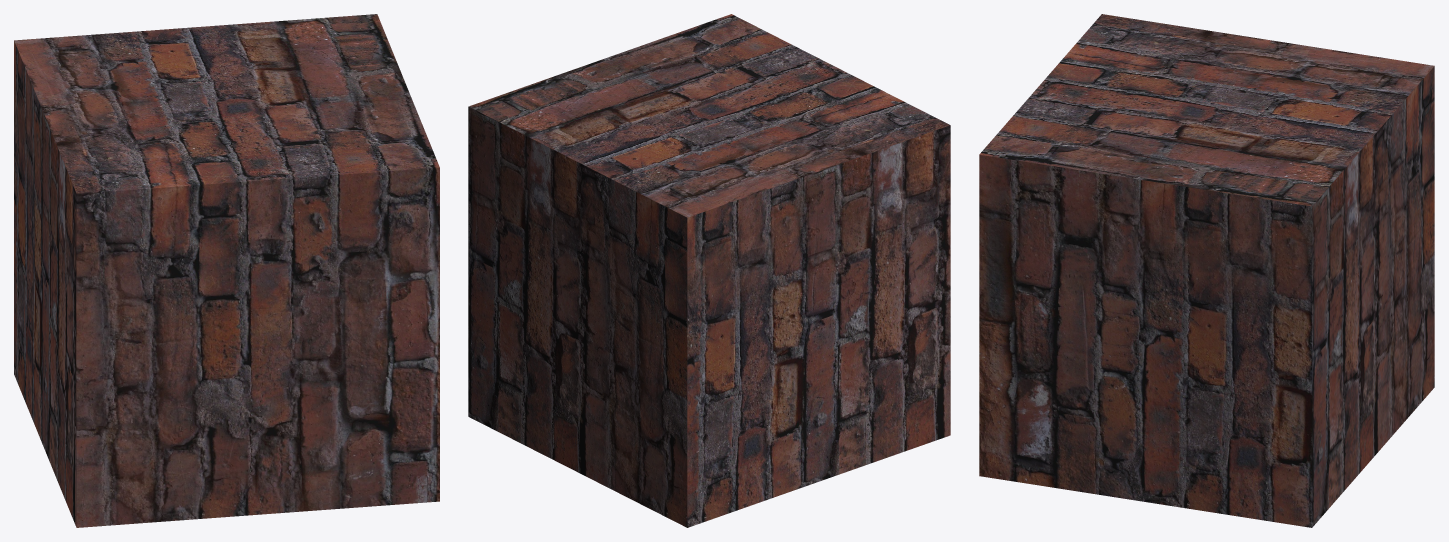
File: Brick_Block.fbx
3 views of the same model, side by side, from view 1: azimuth 30°, elevation 25°; view 2: azimuth 150°, elevation 25°; view 3: azimuth 270°, elevation 25° (orthographic). The views are drawn at different scales.
Parts seen in each view (by area): view 1: Brick_Block; view 2: Brick_Block; view 3: Brick_Block.
Boxes of the visible parts, x1=… form: Brick_Block: x1=14, y1=14, x2=439, y2=527; Brick_Block: x1=468, y1=14, x2=950, y2=527; Brick_Block: x1=979, y1=14, x2=1434, y2=527.
Size of the model in its own units: 257 by 200 by 257.
1 material, 1 textured.
